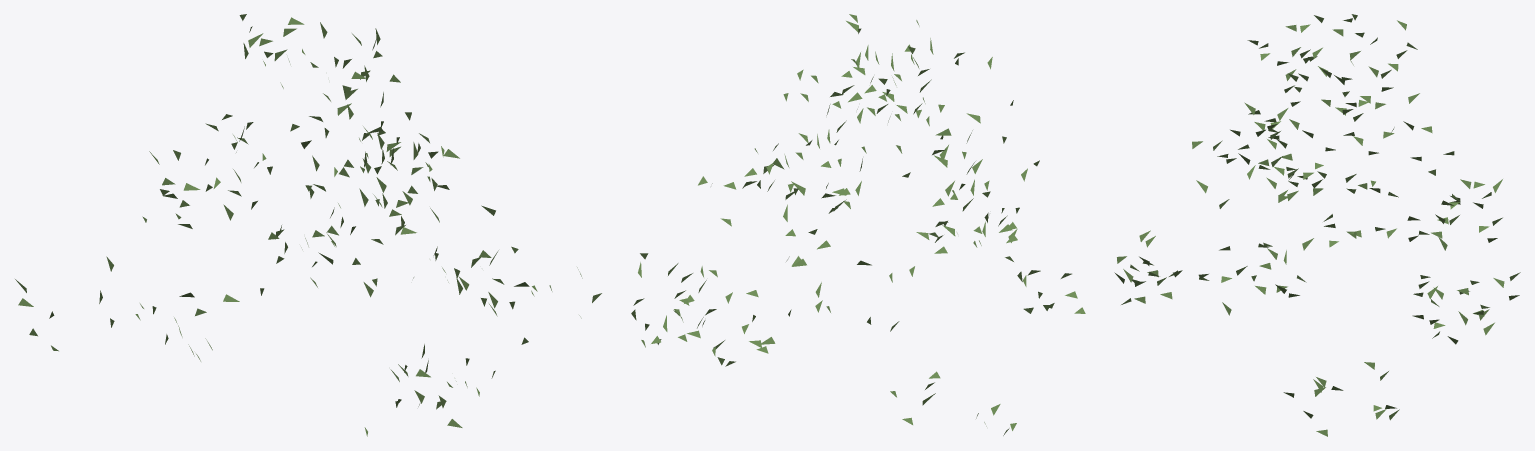
The model's file is teaching3-vegetation-06-far.glb.
The picture shows the model from 3 angles, left to right: view 1: azimuth 30°, elevation 25°; view 2: azimuth 150°, elevation 25°; view 3: azimuth 270°, elevation 25°; orthographic projection. The views are drawn at different scales.
Parts seen in each view (by area): view 1: vegetation cedar leaves; view 2: vegetation cedar leaves; view 3: vegetation cedar leaves.
Boxes of the visible parts, x1,y1,x2,y2 form: vegetation cedar leaves: (15,14,601,436); vegetation cedar leaves: (631,14,1085,435); vegetation cedar leaves: (1114,14,1520,436).
Size of the model in its own units: 11.37 by 8.07 by 9.79.
